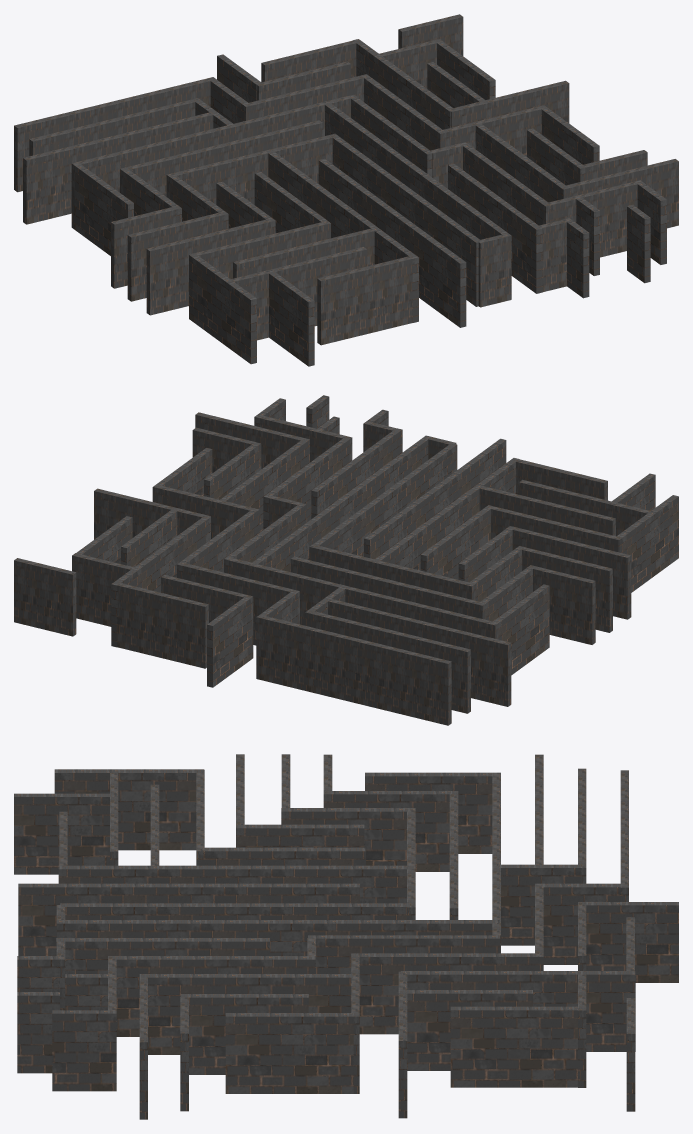
The model's file is Phase3New.fbx.
The picture shows the model from 3 angles, top to bottom: view 1: azimuth 30°, elevation 25°; view 2: azimuth 150°, elevation 25°; view 3: azimuth 270°, elevation 25°; orthographic projection. The views are drawn at different scales.
Parts seen in each view (by area): view 1: wall__42_, crouchWall4, Changed9_close_open_, wall222, crouchWall5_6, Changed4_close_open_, wall__46_, wall__49_, Changed5, wall__40_, wall__7_, wall__26_ (+41 smaller); view 2: wall__7_, wall__6_, Changed9_close_open_, crouchWall5_6, Changed4_close_open_, wall222, crouchWall4, wall, wall__32_, Changed5, wall__46_, wall__38_ (+37 smaller); view 3: wall__2_, wall__10_, crouchWall4, Changed4_close_open_, wall__3_, Changed5, wall__46_, wall__45_, wall__8_, wall__22_, wall__14_, wall222 (+34 smaller).
Part boxes in pixels (bbox=[...]): wall__42_: bbox=[317, 256, 412, 345]; crouchWall4: bbox=[318, 158, 466, 327]; Changed9_close_open_: bbox=[23, 112, 213, 224]; wall222: bbox=[332, 135, 481, 306]; crouchWall5_6: bbox=[71, 96, 350, 229]; Changed4_close_open_: bbox=[322, 101, 511, 299]; wall__46_: bbox=[189, 253, 256, 364]; wall__49_: bbox=[146, 219, 272, 315]; Changed5: bbox=[266, 149, 418, 322]; wall__40_: bbox=[166, 133, 337, 204]; wall__7_: bbox=[14, 77, 216, 192]; wall__26_: bbox=[448, 163, 542, 293]; wall__7_: bbox=[256, 615, 451, 725]; wall__6_: bbox=[117, 583, 208, 668]; Changed9_close_open_: bbox=[328, 599, 511, 706]; crouchWall5_6: bbox=[229, 558, 498, 639]; Changed4_close_open_: bbox=[249, 435, 431, 571]; wall222: bbox=[312, 443, 457, 556]; crouchWall4: bbox=[364, 438, 506, 559]; wall: bbox=[14, 558, 76, 636]; wall__32_: bbox=[305, 610, 470, 713]; Changed5: bbox=[372, 458, 519, 570]; wall__46_: bbox=[616, 495, 678, 592]; wall__38_: bbox=[528, 565, 595, 644]; wall__2_: bbox=[450, 1006, 577, 1087]; wall__10_: bbox=[225, 1013, 353, 1093]; crouchWall4: bbox=[18, 883, 359, 955]; Changed4_close_open_: bbox=[57, 920, 499, 955]; wall__3_: bbox=[400, 971, 635, 1051]; Changed5: bbox=[58, 865, 413, 903]; wall__46_: bbox=[54, 769, 203, 850]; wall__45_: bbox=[14, 793, 118, 874]; wall__8_: bbox=[139, 974, 353, 1054]; wall__22_: bbox=[586, 902, 678, 982]; wall__14_: bbox=[351, 953, 543, 1034]; wall222: bbox=[60, 903, 409, 919].
Size of the model in its own units: 31885 by 4000 by 31135.
1 material, 1 textured.
